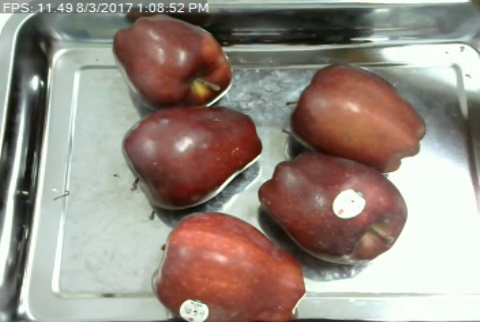Apple: (255, 148, 409, 266), (150, 208, 307, 320), (286, 60, 429, 174), (119, 103, 264, 211), (111, 11, 234, 112)
